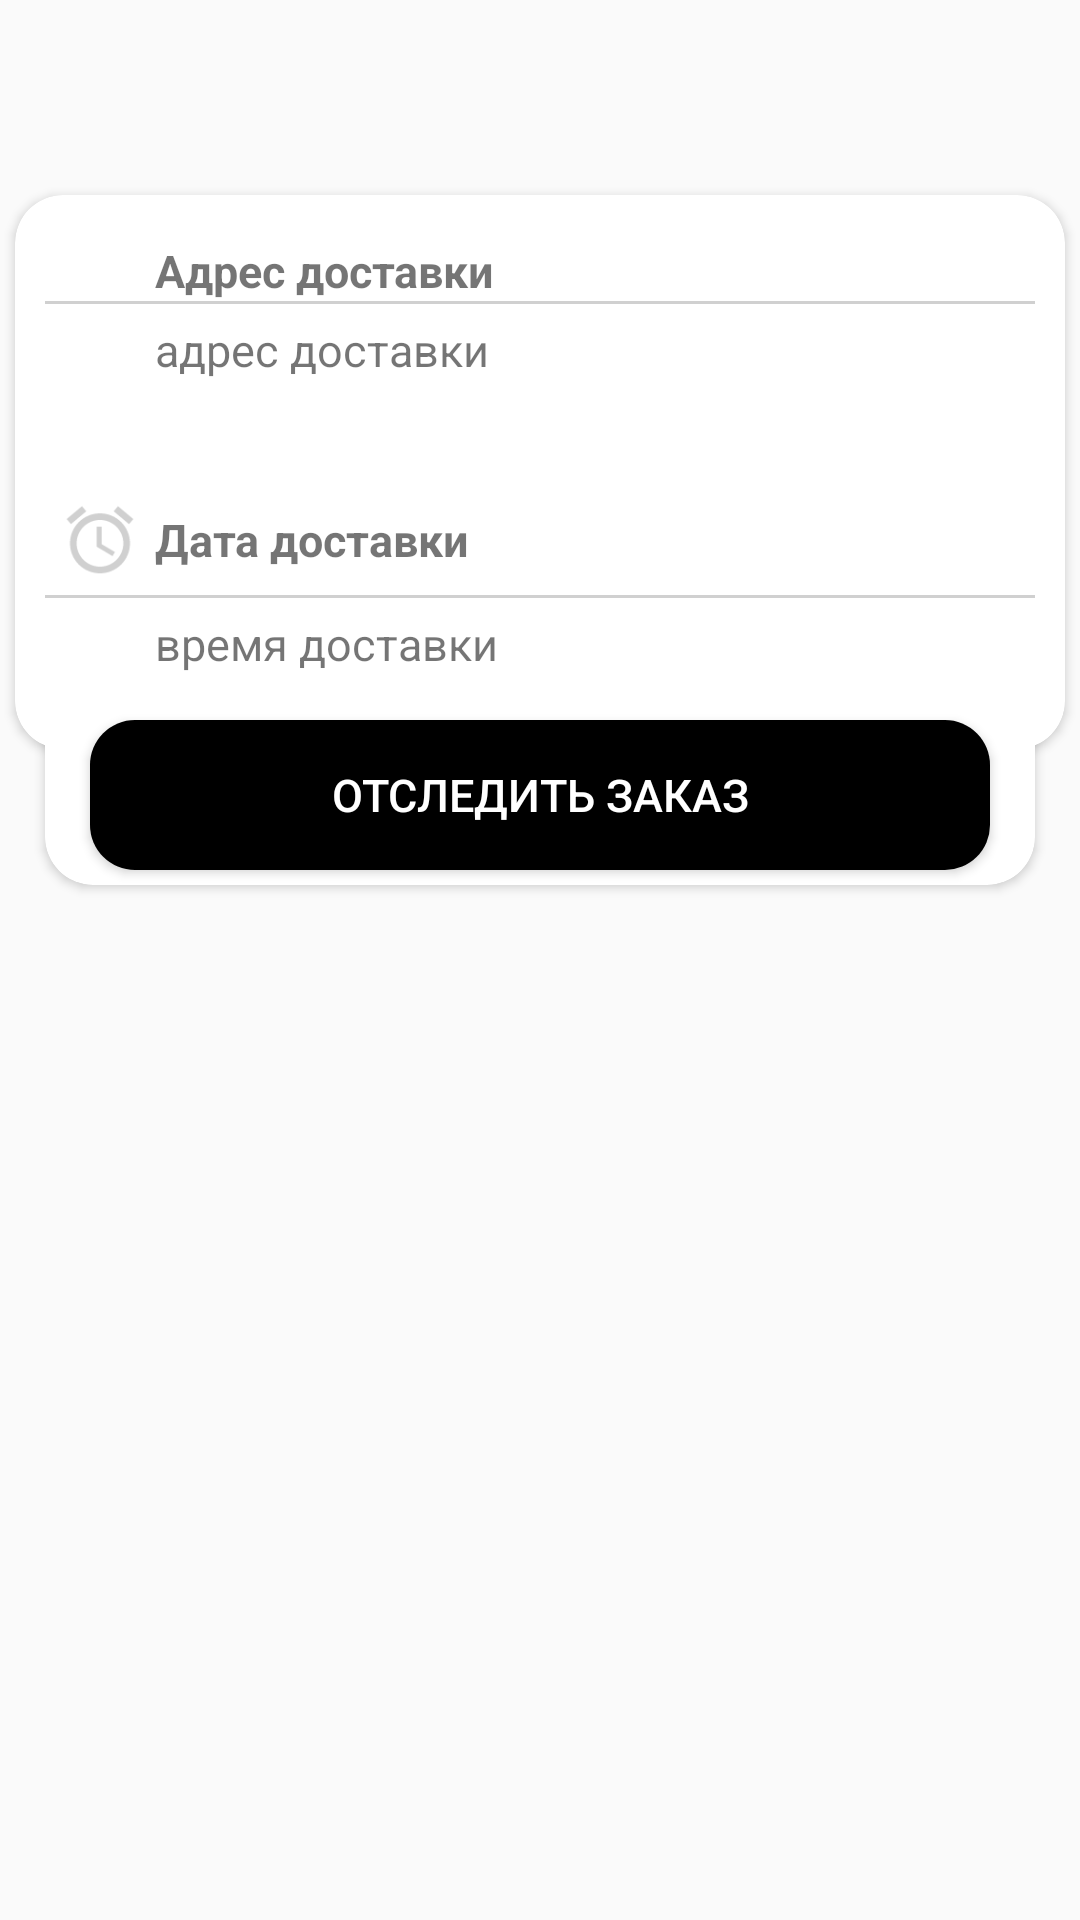

Named icons in this screenshot (1080px×1920px) and their bounding boxes, bbox(x1, y1, x2, y2):
clock lg: bbox(67, 507, 133, 573)
